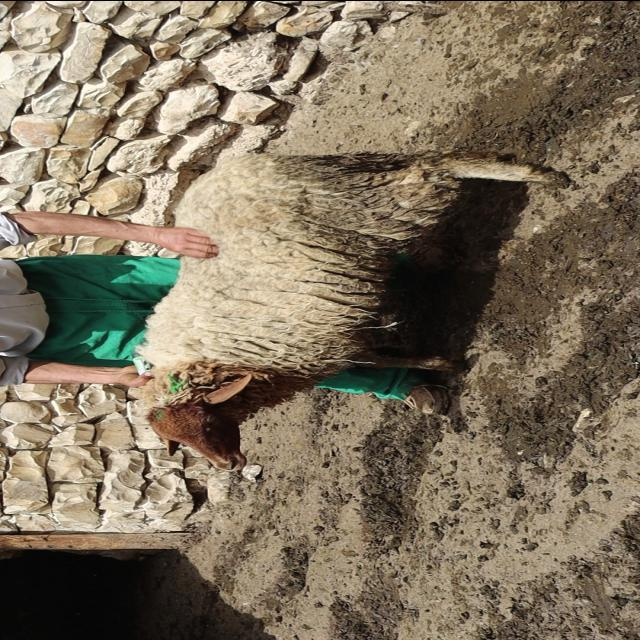Score_2: (136, 150, 558, 470)
